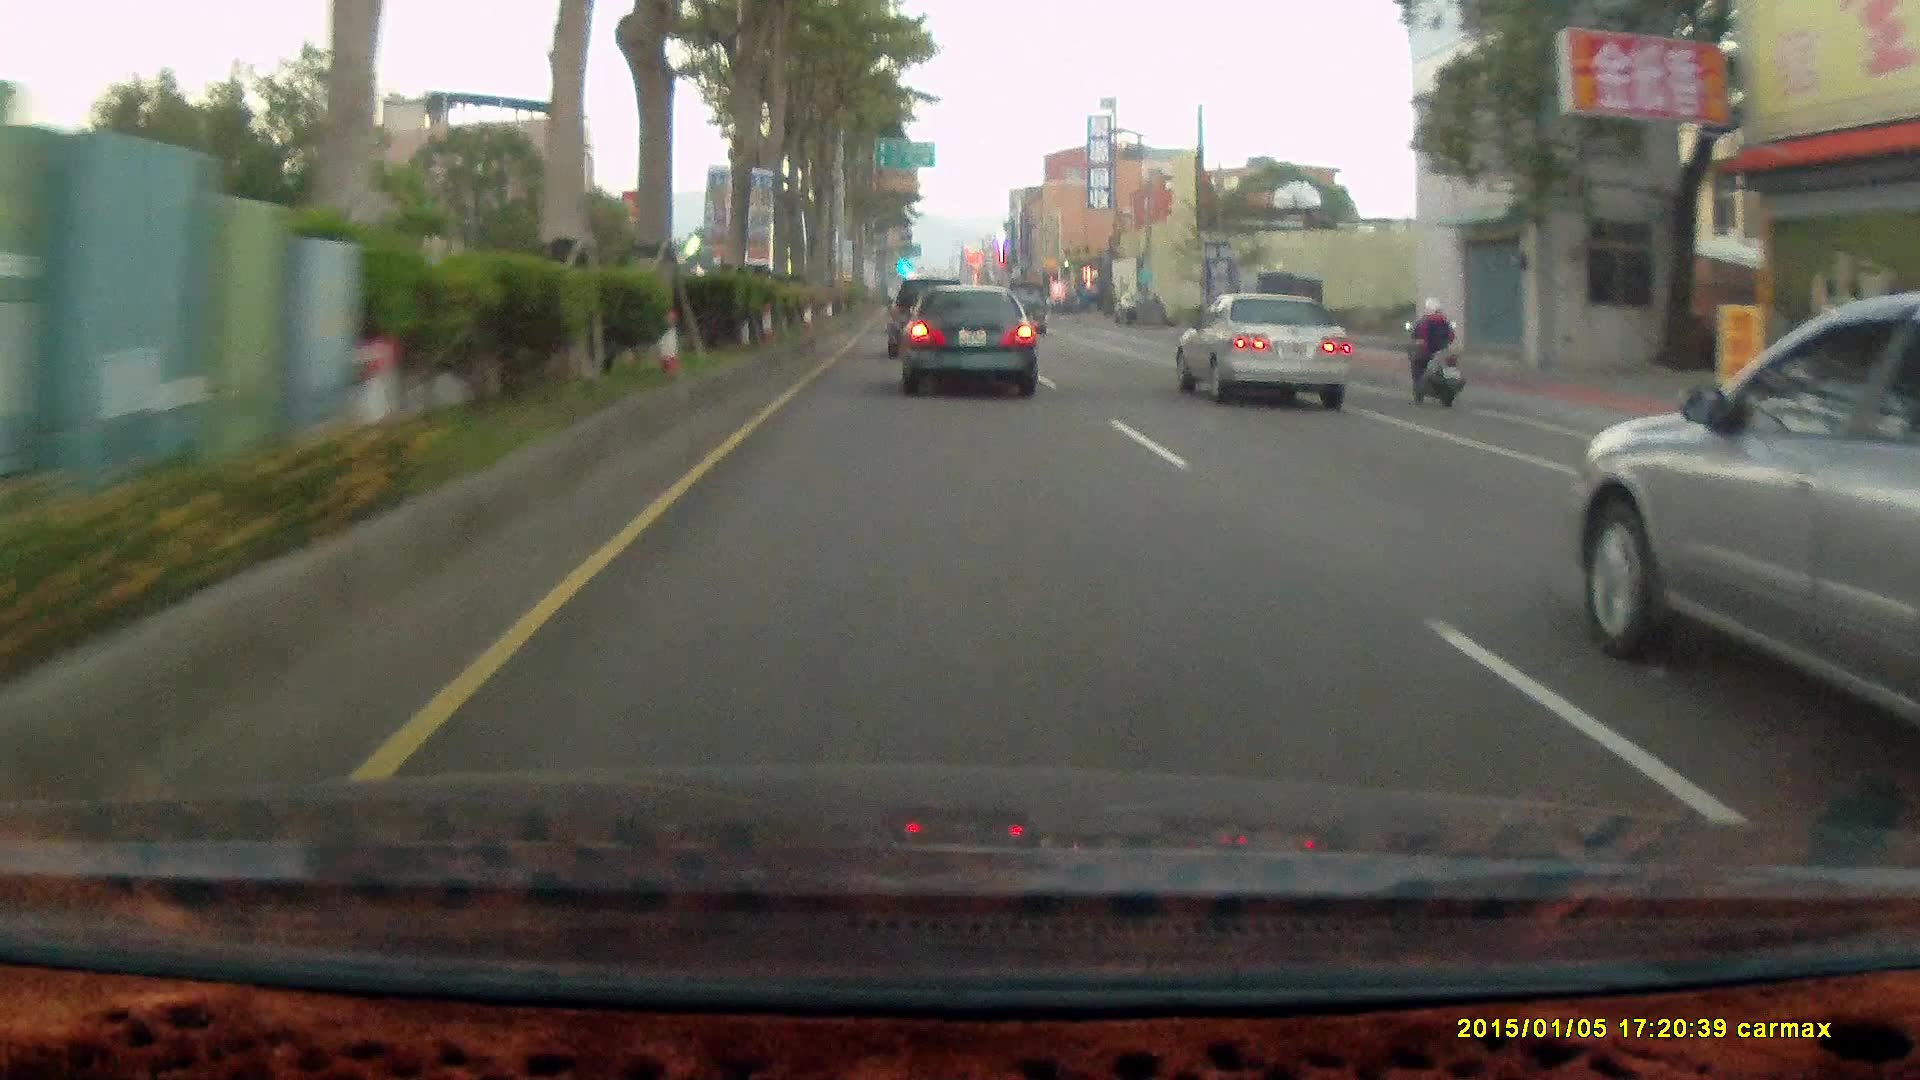rider: (1392, 287, 1475, 419), (1401, 297, 1466, 412)
vehicle: (1571, 312, 1920, 805), (1173, 295, 1351, 414), (1183, 301, 1354, 413), (898, 292, 1038, 404), (898, 289, 1037, 400), (1230, 280, 1322, 362), (888, 278, 973, 362), (885, 278, 967, 359), (1001, 283, 1048, 337)
